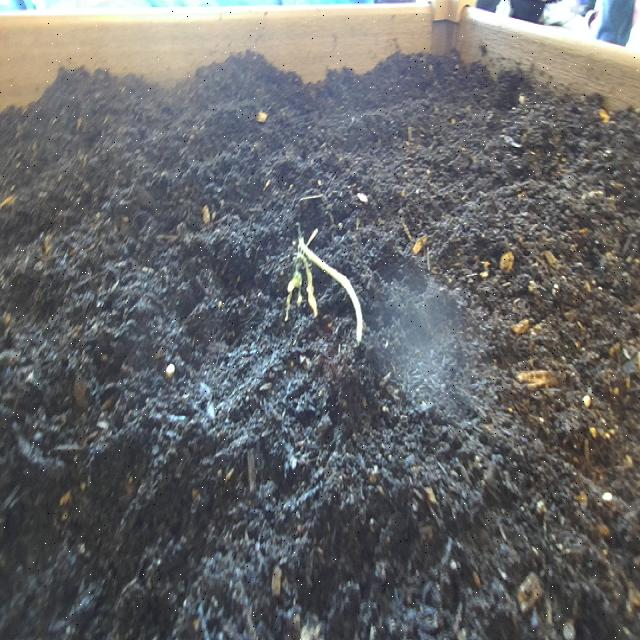Unhealthy: (273, 210, 382, 368)
